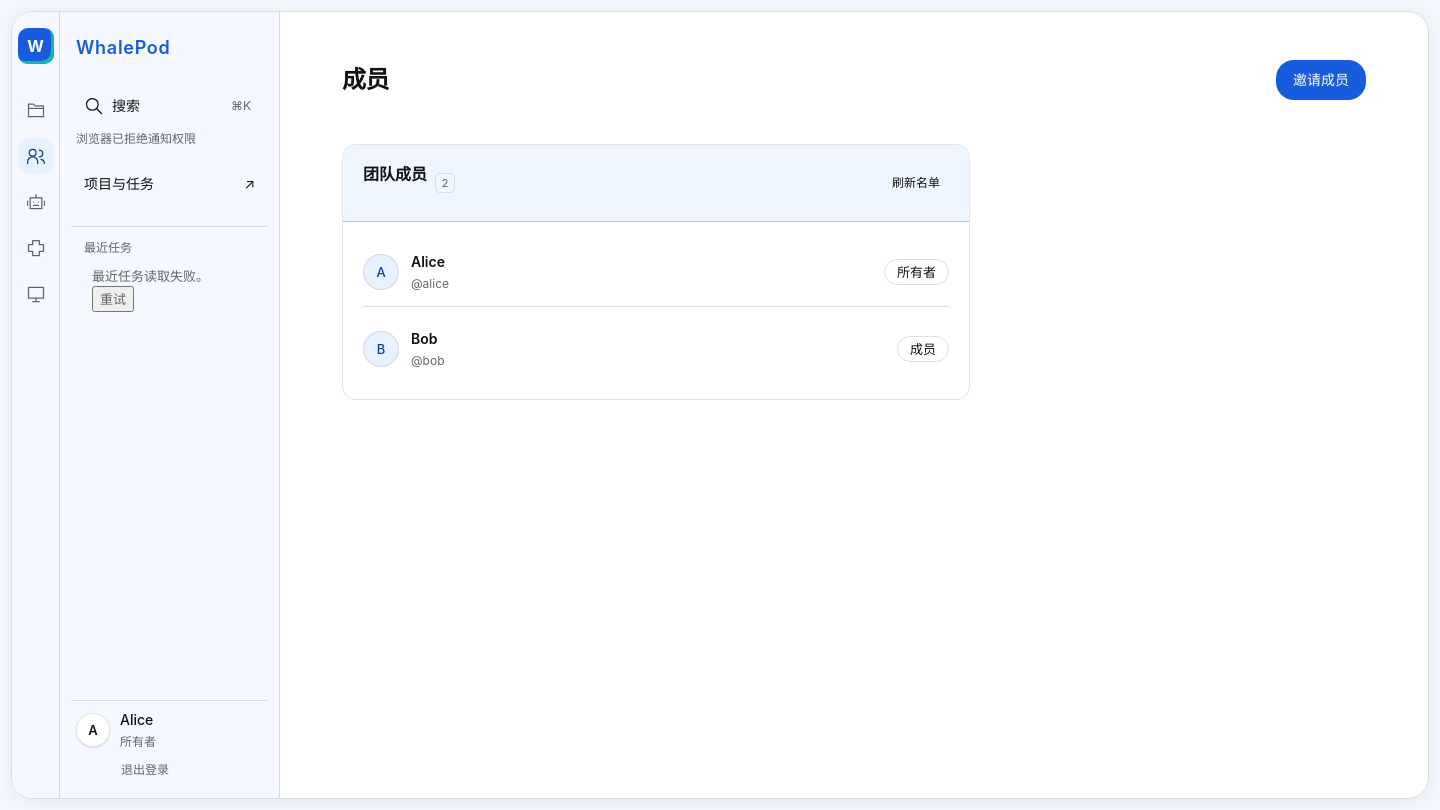
Test case: P1-432 management page interactions › invitation opens explicitly, keeps role through collapse and never creates on toggle
This screenshot has width=1440, height=810.
Expected: the heading "团队成员" is shown, [363,163,427,185]
Expected: the field labelled "角色" is not shown
Click the button "邀请成员". click: (1321, 80)
box: [1276,60,1366,100]
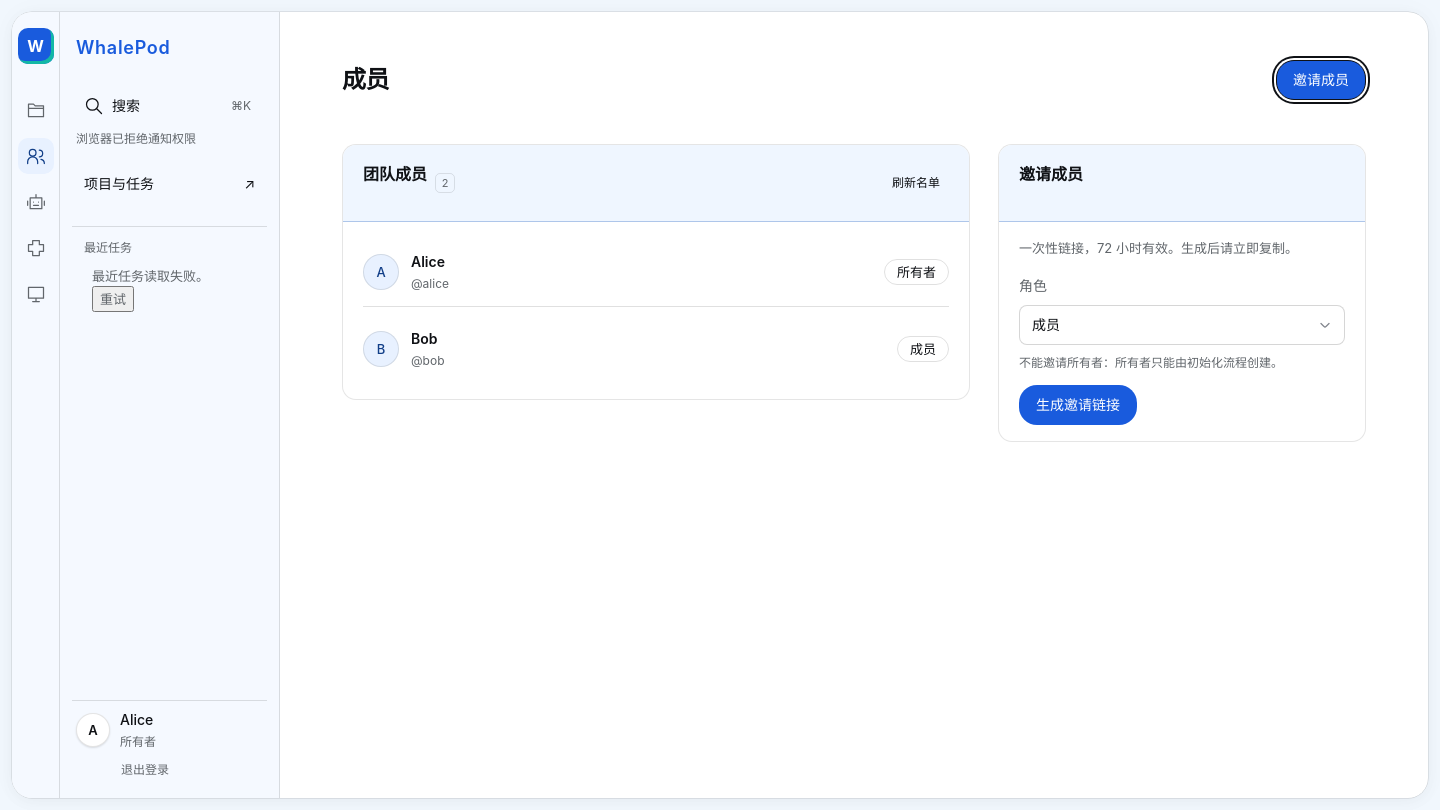
Click the button named "角色". click: (1046, 325)
box: [1019,305,1345,345]
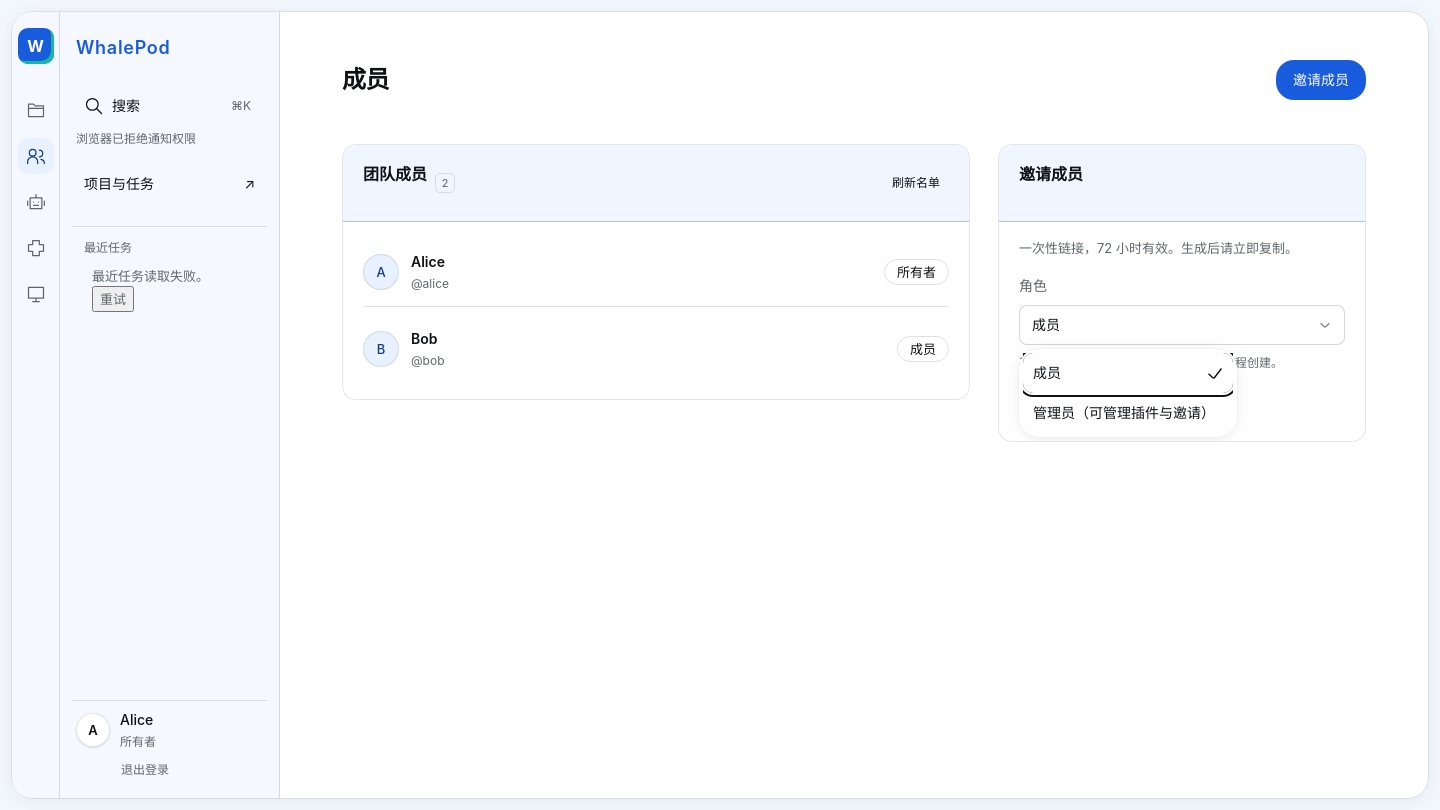
Click the menu item "管理员（可管理插件与邀请）". click: (1128, 413)
box: [1023,393,1233,433]
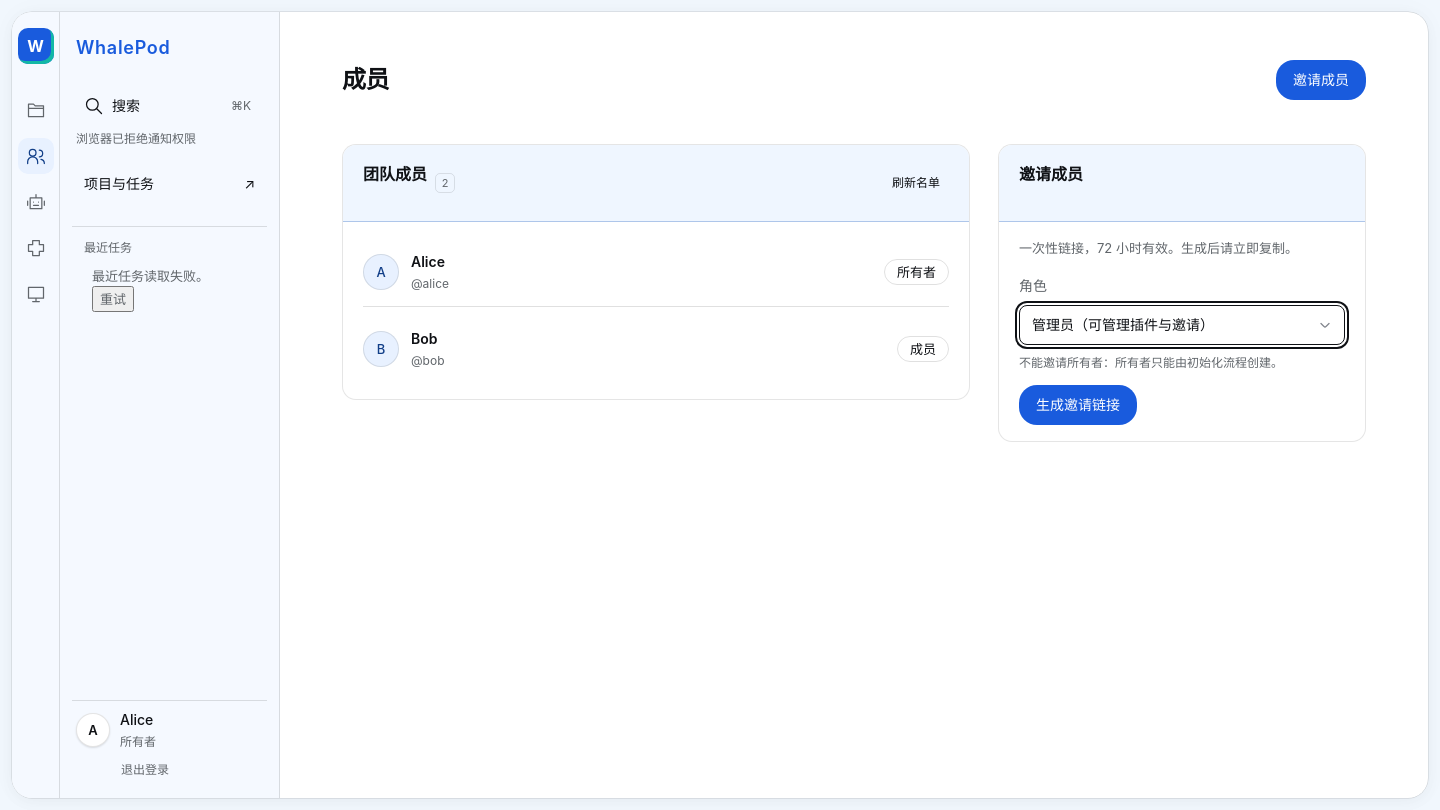
Click the button "邀请成员". click: (1321, 80)
box: [1276,60,1366,100]
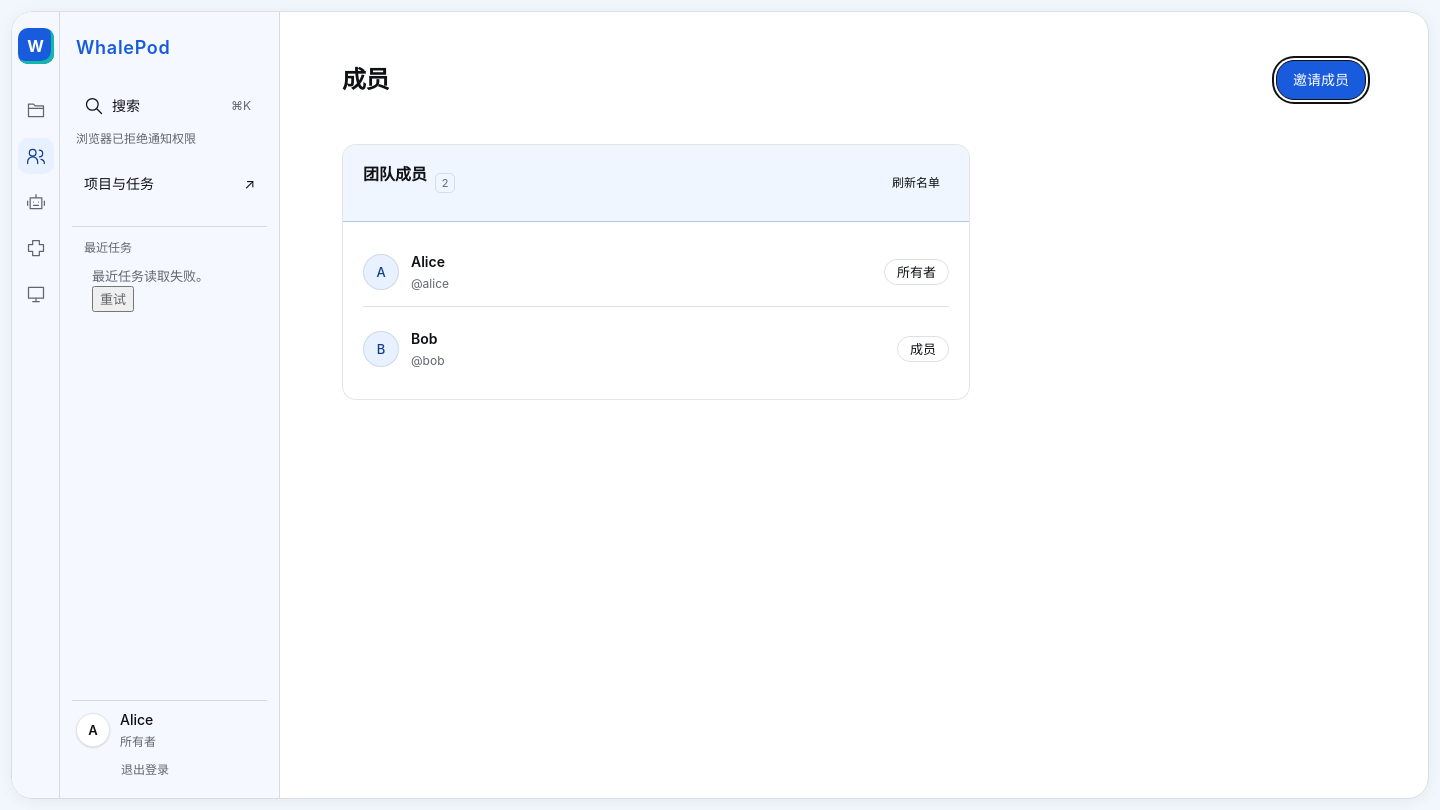
Click the button "邀请成员". click: (1321, 80)
box: [1276,60,1366,100]
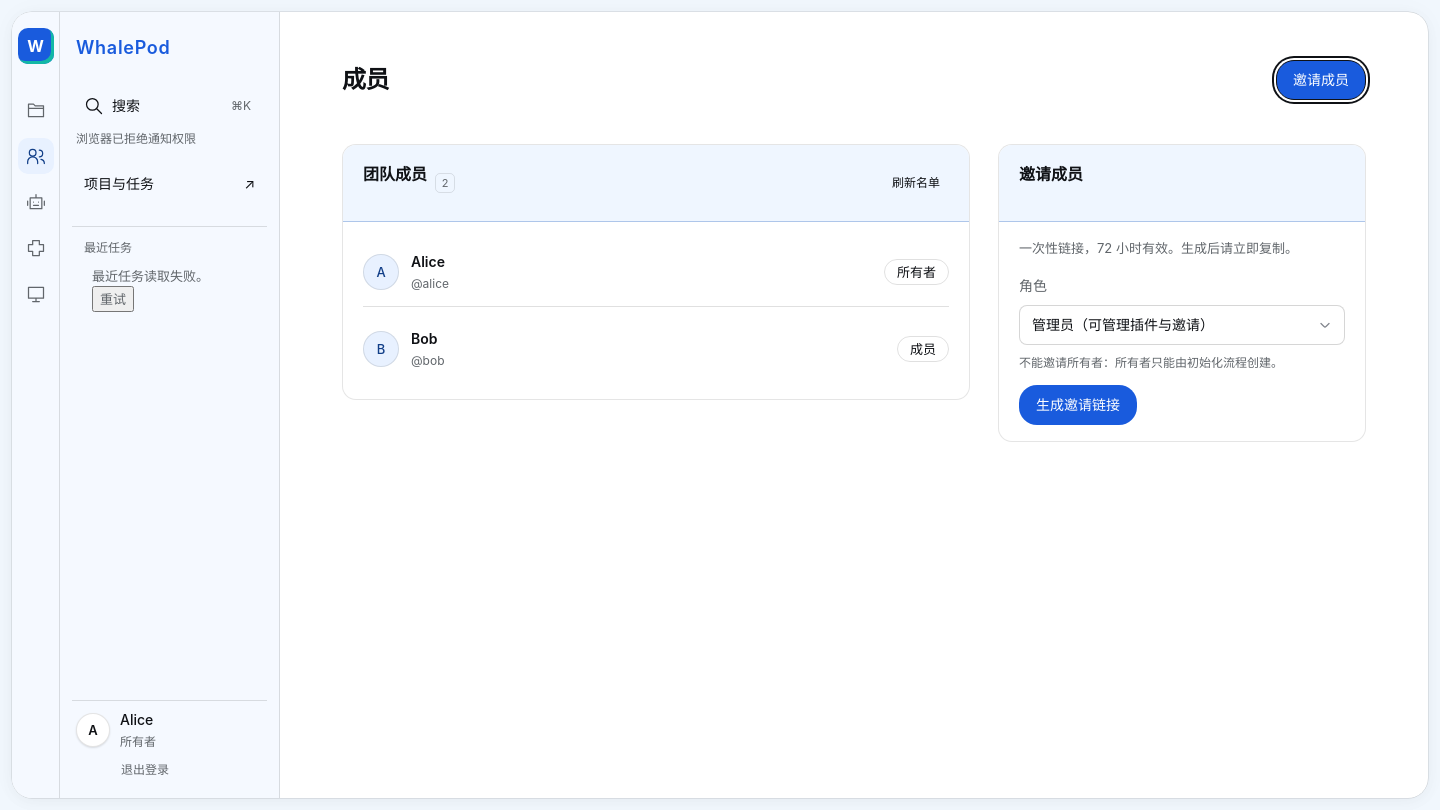
Expected: the button named "角色" shows "管理员", [1019,305,1345,345]
